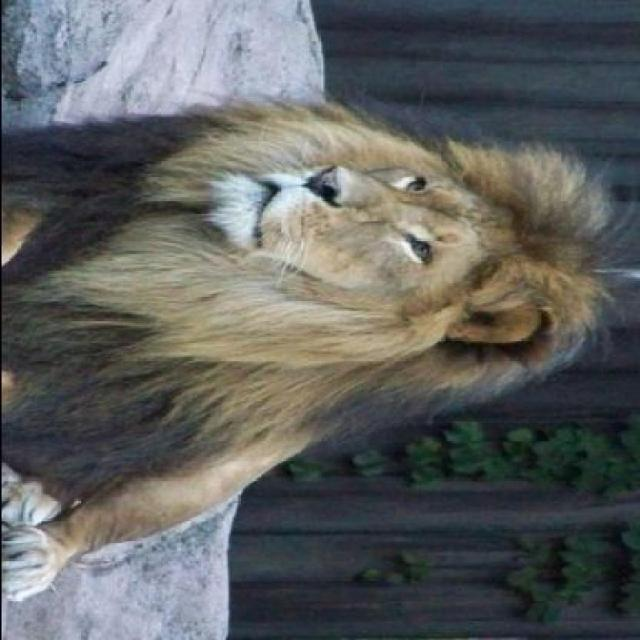Lion: (1, 92, 638, 606)
